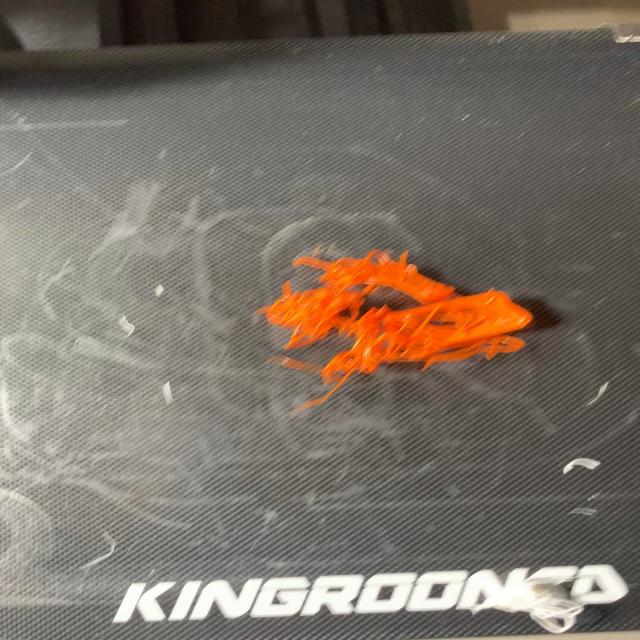spaghetti: (252, 244, 535, 415)
